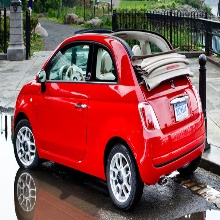no damage: (10, 28, 208, 210)
